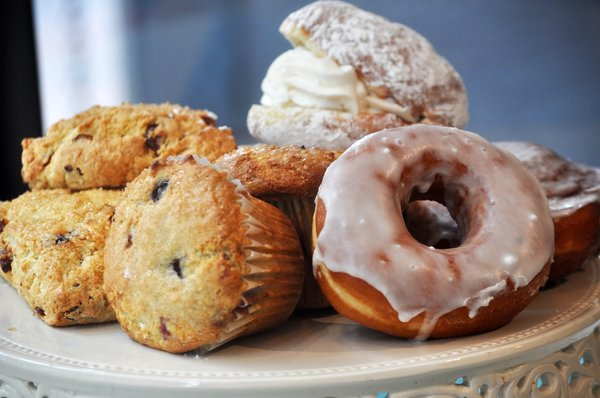salad: (311, 124, 556, 341), (101, 168, 305, 355), (248, 1, 468, 151), (490, 139, 600, 284), (224, 143, 337, 196)
